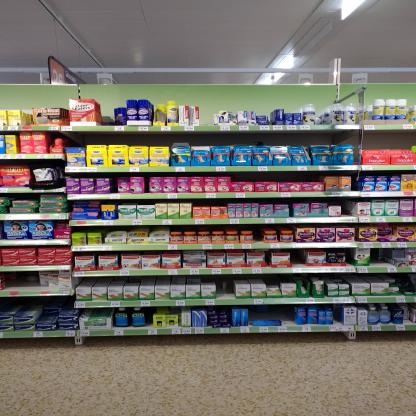Void: (190, 132, 352, 143), (73, 133, 179, 144), (356, 132, 409, 150), (1, 297, 70, 310), (233, 173, 323, 181), (251, 307, 296, 320), (9, 273, 38, 290), (200, 103, 216, 125), (219, 276, 234, 296), (193, 199, 225, 208), (291, 250, 305, 268), (400, 272, 413, 291), (375, 249, 390, 262), (342, 198, 352, 216), (13, 194, 37, 200), (283, 275, 298, 282), (255, 226, 262, 240), (268, 273, 276, 284)
